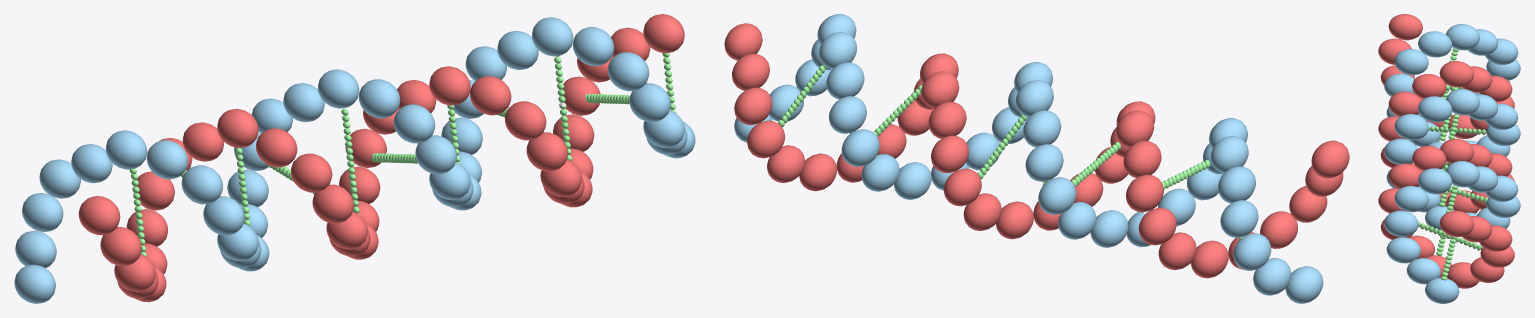
Rendered from DNA2.fbx.
The picture shows the model from 3 angles, left to right: view 1: azimuth 30°, elevation 25°; view 2: azimuth 150°, elevation 25°; view 3: azimuth 270°, elevation 25°; orthographic projection. The views are drawn at different scales.
Visible parts, largest first — view 1: SimpleSphere02_42, SimpleSphere02_221, SimpleSphere02_54, SimpleSphere02_83, SimpleSphere02_194, SimpleSphere02_234, SimpleSphere02_135, SimpleSphere02_257, SimpleSphere02_141, SimpleSphere02_196, SimpleSphere02_247, SimpleSphere02_63 (+41 smaller); view 2: SimpleSphere02_244, SimpleSphere02_131, SimpleSphere02_45, SimpleSphere02_59, SimpleSphere02_121, SimpleSphere02_171, SimpleSphere02_255, SimpleSphere02_49, SimpleSphere02_241, SimpleSphere02_138, SimpleSphere02_233, SimpleSphere02_166 (+45 smaller); view 3: SimpleSphere02_21, SimpleSphere02_58, SimpleSphere02_141, SimpleSphere02_257, SimpleSphere02_83, SimpleSphere02_244, SimpleSphere02_54, SimpleSphere02_127, SimpleSphere02_221, SimpleSphere02_90, SimpleSphere02_223, SimpleSphere02_198 (+46 smaller).
Boxes of the visible parts, <box> form: SimpleSphere02_42: <box>505,101,546,140</box>; SimpleSphere02_221: <box>358,79,400,118</box>; SimpleSphere02_54: <box>146,140,188,179</box>; SimpleSphere02_83: <box>393,104,435,143</box>; SimpleSphere02_194: <box>256,128,297,167</box>; SimpleSphere02_234: <box>470,76,511,115</box>; SimpleSphere02_135: <box>14,264,55,303</box>; SimpleSphere02_257: <box>181,165,222,204</box>; SimpleSphere02_141: <box>643,14,684,53</box>; SimpleSphere02_196: <box>532,17,573,56</box>; SimpleSphere02_247: <box>318,69,359,108</box>; SimpleSphere02_63: <box>105,130,147,169</box>; SimpleSphere02_244: <box>1311,140,1349,178</box>; SimpleSphere02_131: <box>1233,233,1271,270</box>; SimpleSphere02_45: <box>1038,177,1076,214</box>; SimpleSphere02_59: <box>841,129,879,166</box>; SimpleSphere02_121: <box>1025,144,1063,181</box>; SimpleSphere02_171: <box>1126,174,1163,212</box>; SimpleSphere02_255: <box>828,96,866,133</box>; SimpleSphere02_49: <box>1138,207,1176,245</box>; SimpleSphere02_241: <box>1220,200,1258,237</box>; SimpleSphere02_138: <box>943,168,981,206</box>; SimpleSphere02_233: <box>734,87,772,125</box>; SimpleSphere02_166: <box>931,135,968,173</box>; SimpleSphere02_21: <box>1384,210,1418,236</box>; SimpleSphere02_58: <box>1439,61,1473,87</box>; SimpleSphere02_141: <box>1439,210,1473,236</box>; SimpleSphere02_257: <box>1394,49,1428,75</box>; SimpleSphere02_83: <box>1394,114,1428,140</box>; SimpleSphere02_244: <box>1388,14,1422,40</box>; SimpleSphere02_54: <box>1418,31,1452,57</box>; SimpleSphere02_127: <box>1394,186,1428,212</box>; SimpleSphere02_221: <box>1418,96,1452,122</box>; SimpleSphere02_90: <box>1418,168,1452,194</box>; SimpleSphere02_223: <box>1386,237,1420,263</box>; SimpleSphere02_198: <box>1425,277,1459,303</box>.
Bounding box in the file's own units: 6.21 × 1.56 × 1.71.
